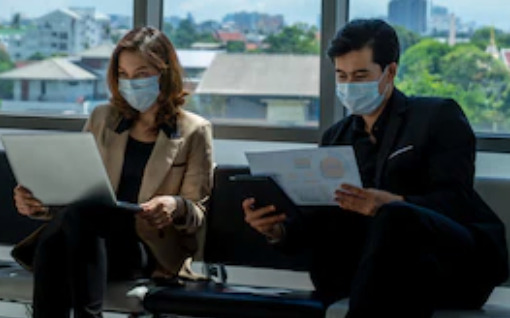Caution: (29, 17, 482, 312)
